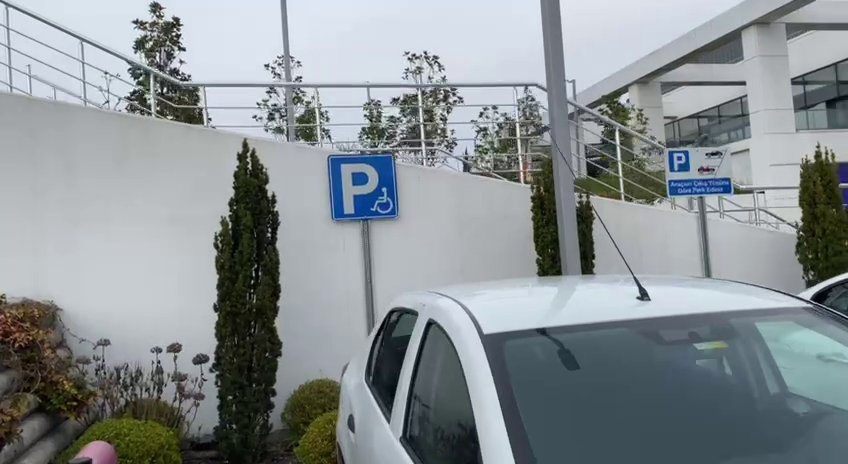parking: (326, 151, 401, 222), (668, 150, 693, 173)
